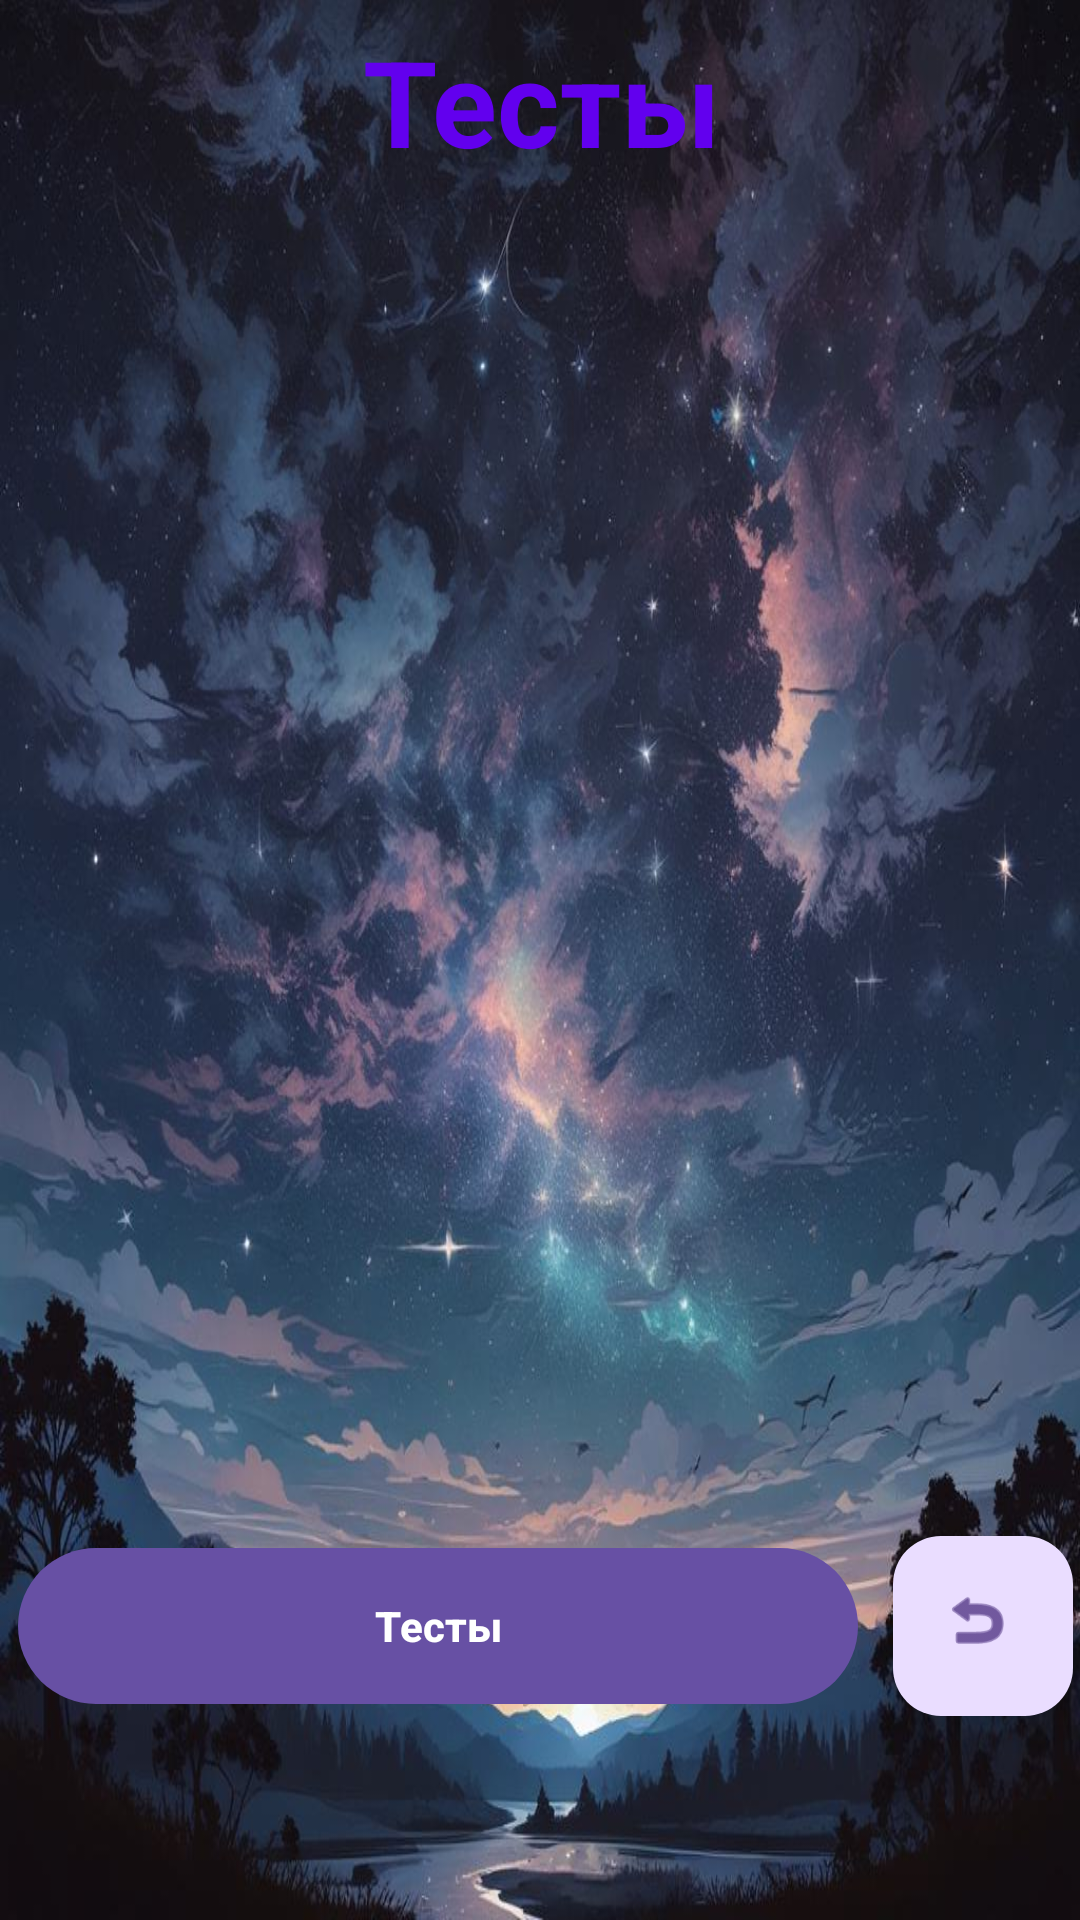

Icons on this 1080w x 1920h Android screen, each with the point to tap as [x,y]:
exit: [983,1626]
